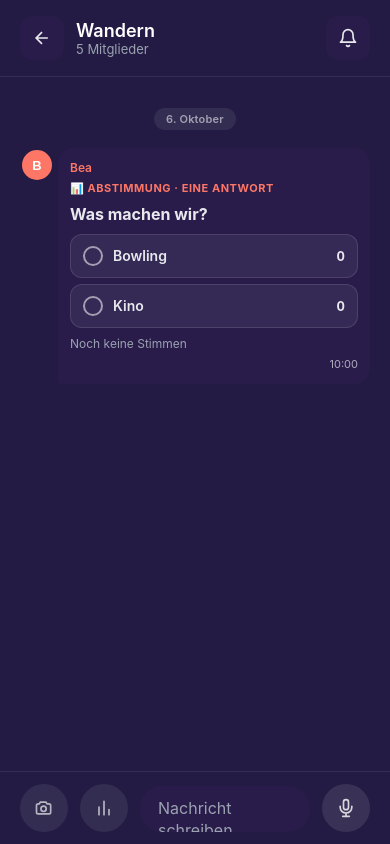
ChatPage — polls › a co-manager of this group may end someone else's poll
The image size is (390, 844).
Right-click the element with class "message--poll" at (214, 266), box [58, 148, 370, 384]
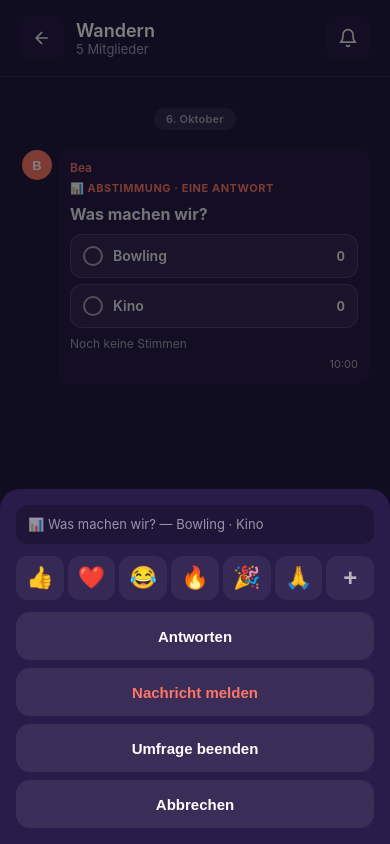
Expected: the button "Umfrage beenden" is shown, [16, 724, 374, 772]
